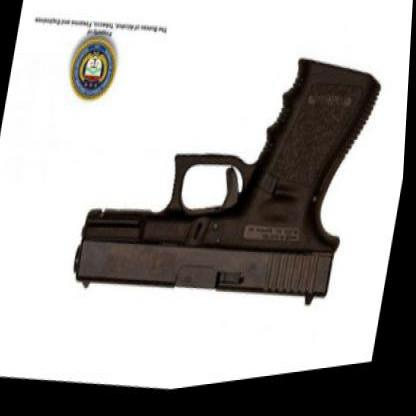pistol: (69, 3, 395, 353)
